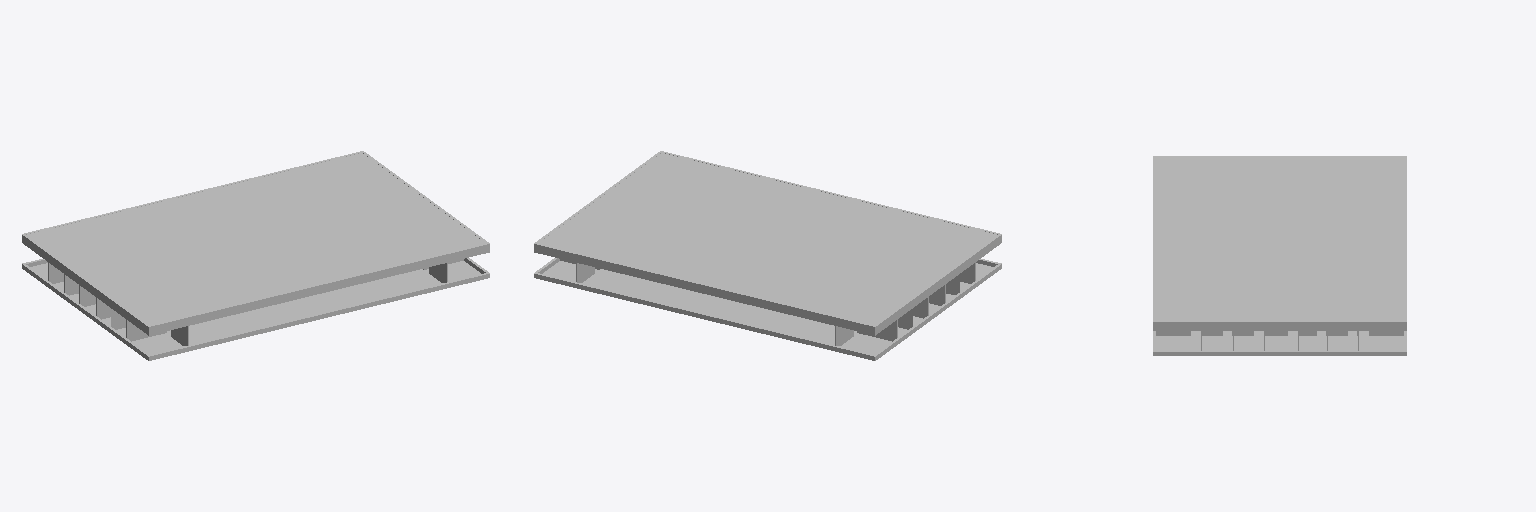
The model's file is Envelope_ForStrip_WWR30p_9ft.obj.
3 views of the same model, side by side, from view 1: azimuth 30°, elevation 25°; view 2: azimuth 150°, elevation 25°; view 3: azimuth 270°, elevation 25° (orthographic).
Visible parts, largest first — view 1: Envelope_ForStrip_WWR30p_9ft.obj; view 2: Envelope_ForStrip_WWR30p_9ft.obj; view 3: Envelope_ForStrip_WWR30p_9ft.obj.
Part boxes in pixels (x1,y1,x2,y2): Envelope_ForStrip_WWR30p_9ft.obj: (22,151,489,360); Envelope_ForStrip_WWR30p_9ft.obj: (534,151,1001,360); Envelope_ForStrip_WWR30p_9ft.obj: (1153,156,1406,355).
Bounding box in the file's own units: 38.71 × 3.69 × 24.94.